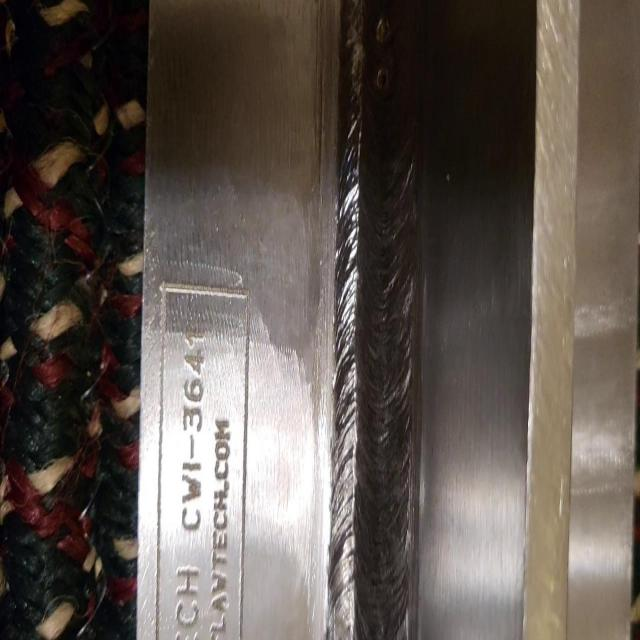Welding Line: (336, 0, 411, 632)
Workpiece: (151, 3, 631, 639)
porosity: (373, 2, 391, 89)
